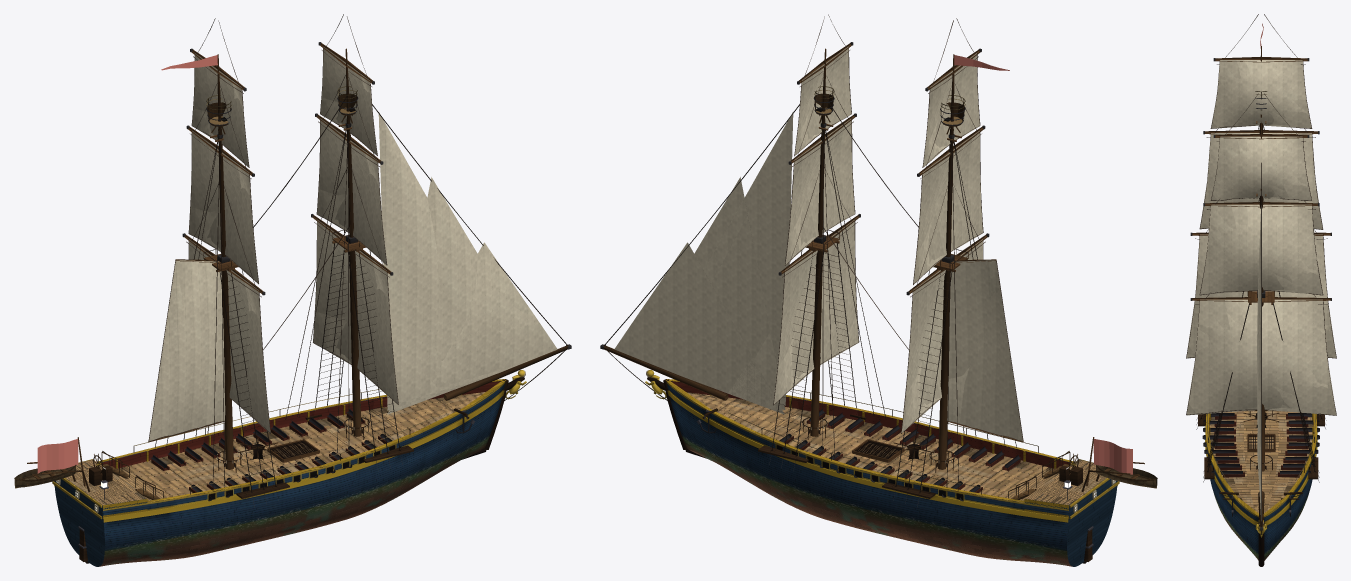
Rendered from brig.glb.
The picture shows the model from 3 angles, left to right: view 1: azimuth 30°, elevation 25°; view 2: azimuth 150°, elevation 25°; view 3: azimuth 270°, elevation 25°; orthographic projection. The views are drawn at different scales.
Visible parts, largest first — view 1: LOD0_Body, LOD0_Jib, LOD0_Wood, LOD2_m0_SquareSail, LOD2_m1_SquareSail, LOD2_Body, LOD0_m1_AftSail, LOD2_Wood, LOD1_Wood, LOD1_Jib, LOD1_Body, LOD0_m0_SquareSail (+10 smaller); view 2: LOD0_Body, LOD2_Jib, LOD0_Wood, LOD2_m0_SquareSail, LOD2_m1_SquareSail, LOD2_Body, LOD2_m1_AftSail, LOD2_Wood, LOD1_Wood, LOD0_m0_SquareSail, LOD1_Body, LOD1_Jib (+10 smaller); view 3: LOD0_m0_SquareSail, LOD0_m1_SquareSail, LOD0_Body, LOD0_Wood, LOD2_Body, LOD1_m0_SquareSail, LOD2_m0_SquareSail, LOD1_m1_SquareSail, LOD2_m1_SquareSail, LOD0_Jib, LOD0_m0_SquareYards, LOD2_m0_SquareYards (+7 smaller).
Boxes of the visible parts, x1,y1,x2,y2 form: LOD0_Body: [54, 93, 526, 566]; LOD0_Jib: [378, 112, 538, 414]; LOD0_Wood: [14, 48, 571, 566]; LOD2_m0_SquareSail: [314, 49, 397, 402]; LOD2_m1_SquareSail: [189, 66, 270, 432]; LOD2_Body: [100, 381, 504, 565]; LOD0_m1_AftSail: [149, 260, 224, 441]; LOD2_Wood: [60, 130, 505, 559]; LOD1_Wood: [55, 55, 568, 566]; LOD1_Jib: [379, 127, 557, 414]; LOD1_Body: [76, 111, 502, 565]; LOD0_m0_SquareSail: [313, 46, 397, 400]; LOD0_Body: [645, 93, 1117, 566]; LOD2_Jib: [614, 112, 793, 413]; LOD0_Wood: [600, 48, 1157, 566]; LOD2_m0_SquareSail: [774, 54, 856, 395]; LOD2_m1_SquareSail: [903, 65, 982, 425]; LOD2_Body: [667, 381, 1071, 565]; LOD2_m1_AftSail: [948, 260, 1019, 436]; LOD2_Wood: [604, 122, 1112, 559]; LOD1_Wood: [604, 54, 1116, 566]; LOD0_m0_SquareSail: [774, 46, 858, 404]; LOD1_Body: [669, 111, 1097, 565]; LOD1_Jib: [631, 130, 792, 412]; LOD0_m0_SquareSail: [1186, 136, 1328, 414]; LOD0_m1_SquareSail: [1186, 60, 1329, 357]; LOD0_Body: [1196, 98, 1326, 560]; LOD0_Wood: [1198, 46, 1324, 566]; LOD2_Body: [1209, 410, 1313, 560]; LOD1_m0_SquareSail: [1191, 136, 1329, 411]; LOD2_m0_SquareSail: [1187, 136, 1336, 415]; LOD1_m1_SquareSail: [1187, 60, 1330, 357]; LOD2_m1_SquareSail: [1187, 60, 1336, 358]; LOD0_Jib: [1257, 205, 1261, 487]; LOD0_m0_SquareYards: [1186, 93, 1336, 415]; LOD2_m0_SquareYards: [1192, 135, 1330, 301].
Bounding box in the file's own units: 41.77 × 37.59 × 11.17.
5 materials, 3 textured.
